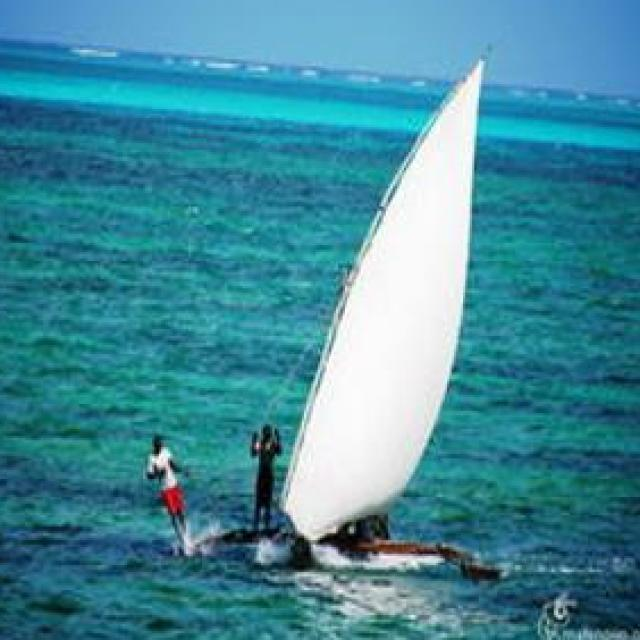sailboat: (186, 59, 536, 582)
